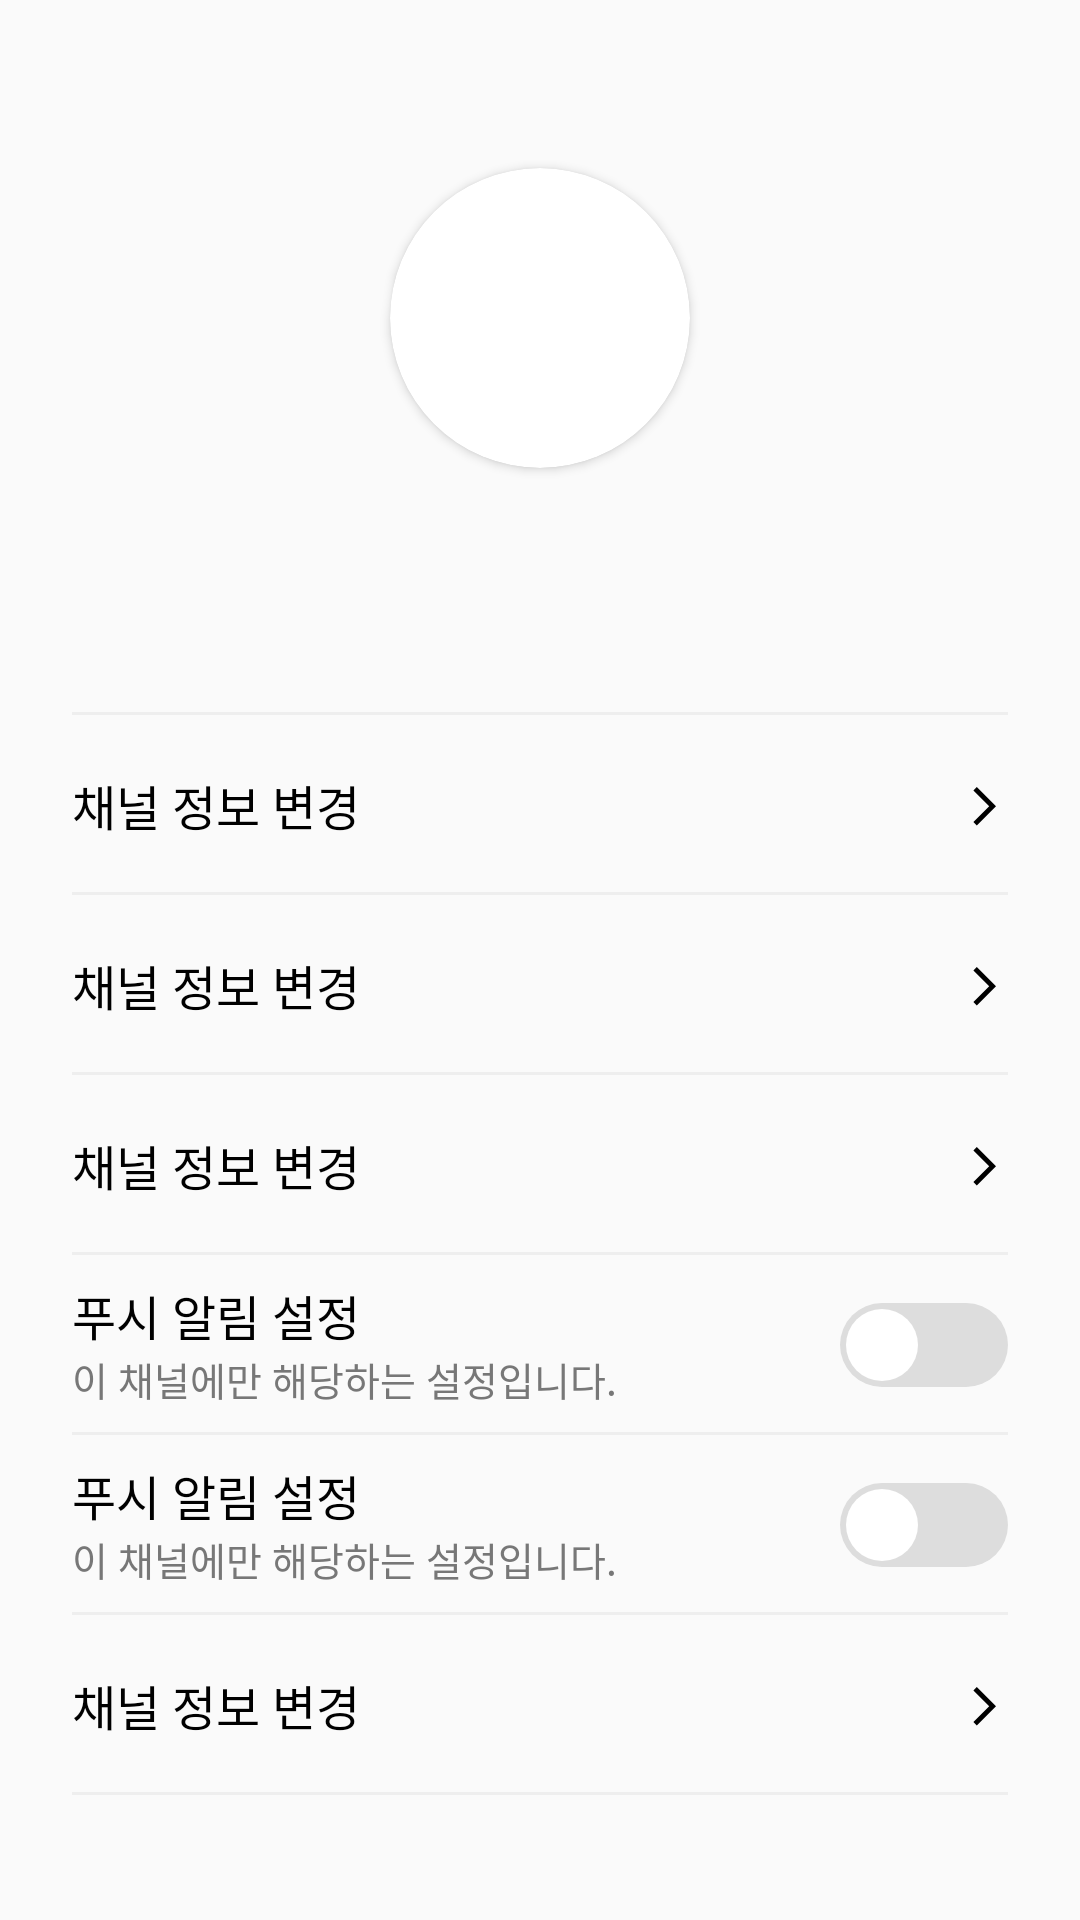

Point at icon controls on the screen. Image size 1080×1920, points as (x,y).
arrow: (984,806), (984,986), (984,1166), (984,1706)
